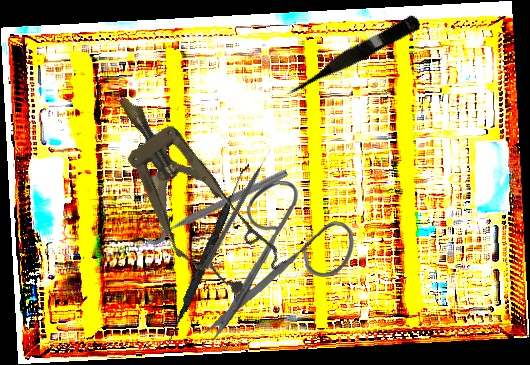Fixation Ring: (138, 157, 291, 249)
Iris Scissors: (200, 177, 358, 350)
Micro Scissor: (277, 9, 424, 103)
Pusher: (202, 147, 275, 270)
Spatula Surgical: (166, 159, 250, 346)
Speculum: (86, 73, 290, 312)
